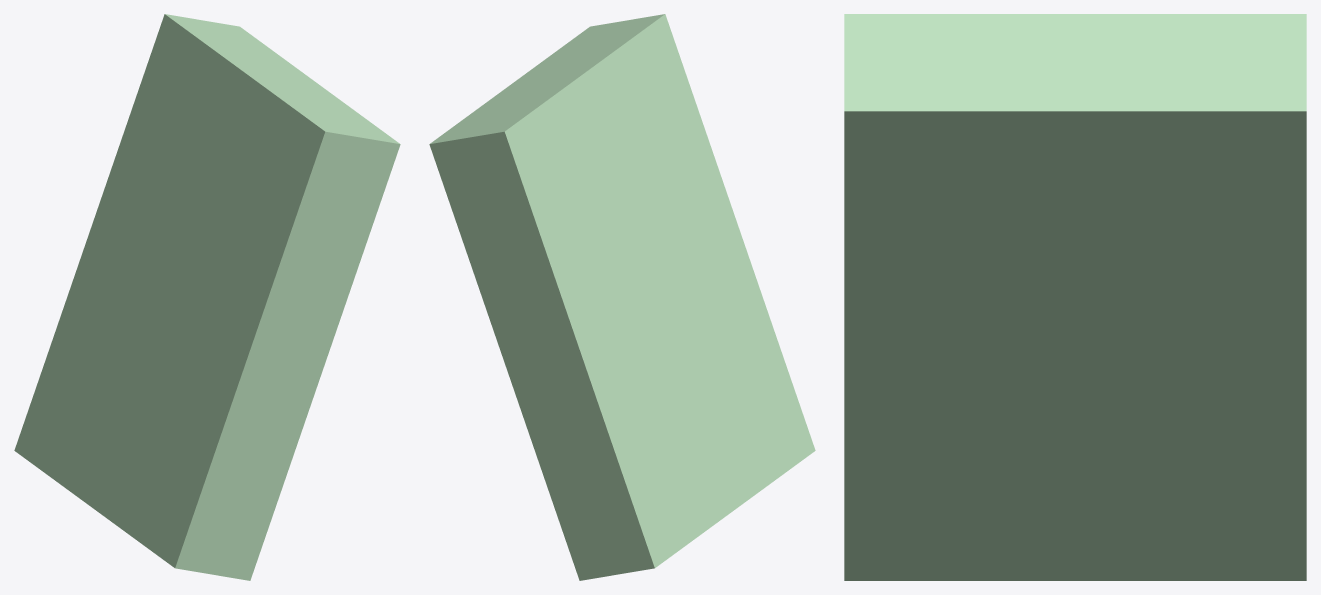
File: Livro2.fbx
3 renders of one model, left to right at view 1: azimuth 30°, elevation 25°; view 2: azimuth 150°, elevation 25°; view 3: azimuth 270°, elevation 25°, orthographic. The views are drawn at different scales.
Visible parts, largest first — view 1: Cube.010; view 2: Cube.010; view 3: Cube.010.
Part boxes in pixels (x1=…): Cube.010: x1=14, y1=14, x2=400, y2=580; Cube.010: x1=429, y1=14, x2=815, y2=580; Cube.010: x1=844, y1=14, x2=1306, y2=580.
Size of the model in its own units: 91.18 by 166 by 113.
